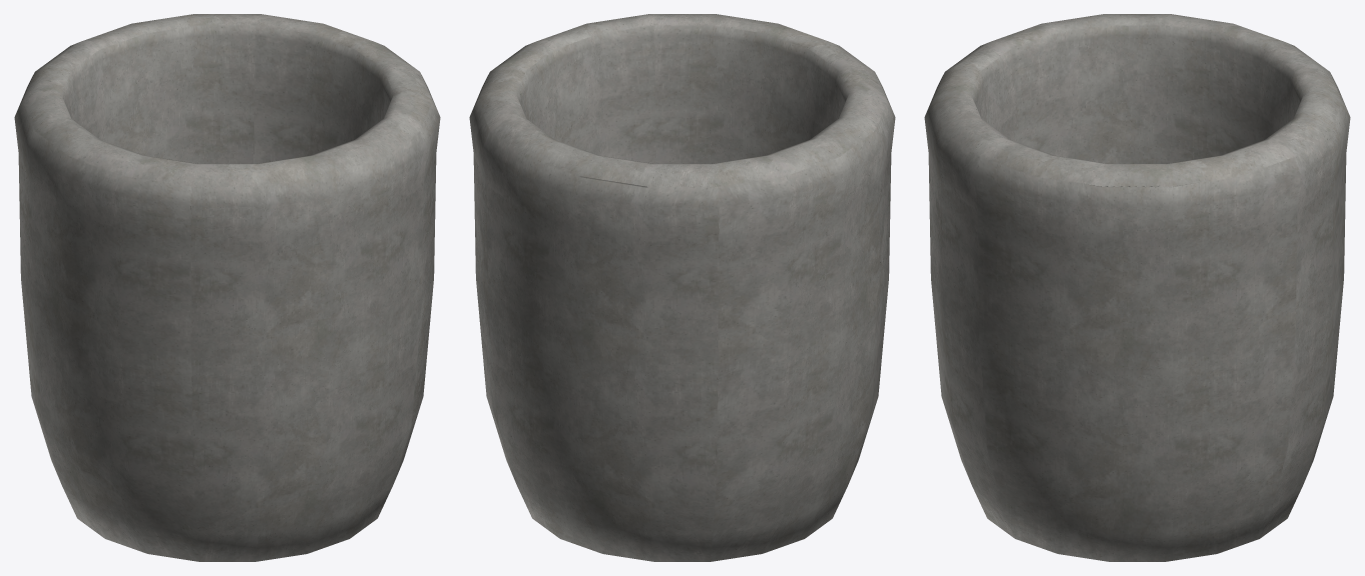
File: Crucible_Empty.glb
3 renders of one model, left to right at view 1: azimuth 30°, elevation 25°; view 2: azimuth 150°, elevation 25°; view 3: azimuth 270°, elevation 25°, orthographic.
Parts seen in each view (by area): view 1: Crucible_Empty; view 2: Crucible_Empty; view 3: Crucible_Empty.
Part boxes in pixels (left/top/right/bottom): Crucible_Empty: left=14, top=14, right=440, bottom=561; Crucible_Empty: left=469, top=14, right=895, bottom=561; Crucible_Empty: left=924, top=14, right=1350, bottom=561.
Size of the model in its own units: 2.14 by 2.36 by 2.17.
1 material, 1 textured.
